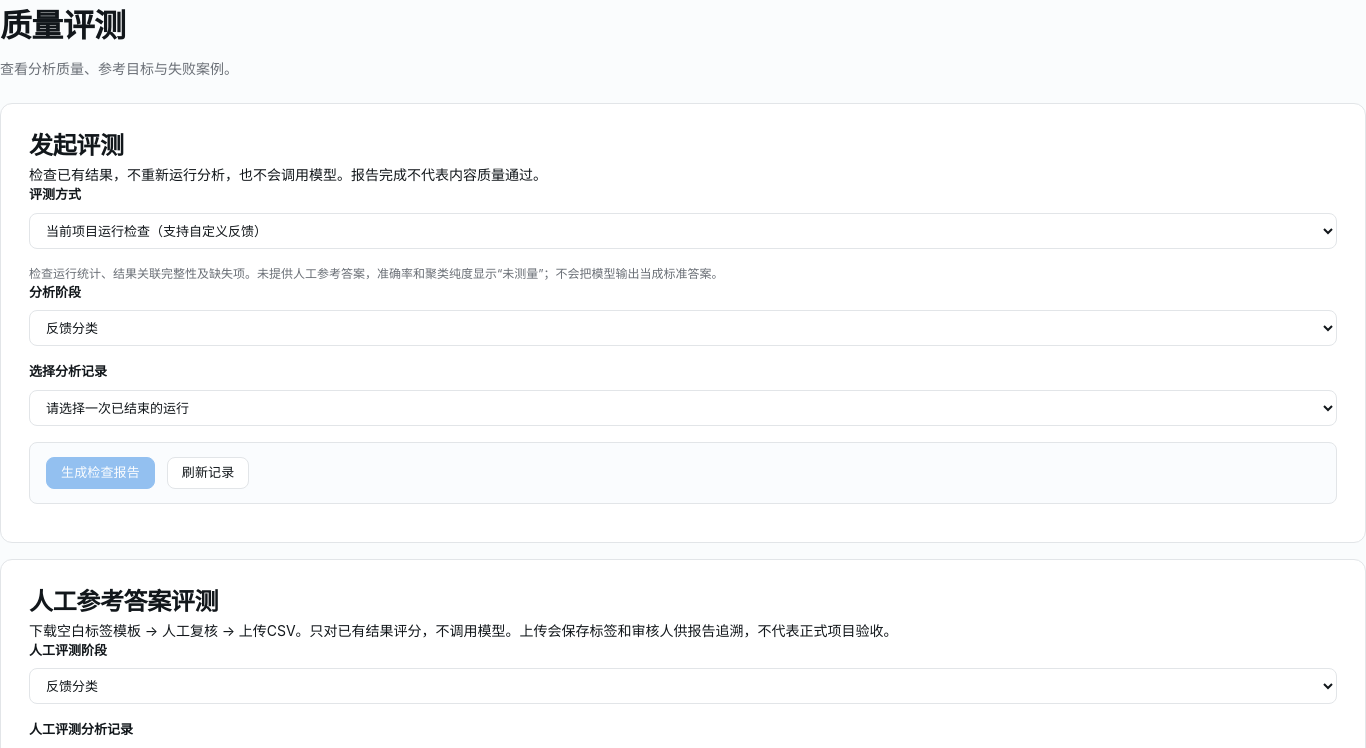
launches a custom-project check and opens its saved report
The image size is (1366, 748).
Expected: the heading "发起评测" is shown, [29, 131, 124, 160]
Select "已有记录 · 已完成 · 36 条 · source-a" in the dropdown labelled "选择分析记录" at point(683, 408), box [29, 390, 1337, 426]
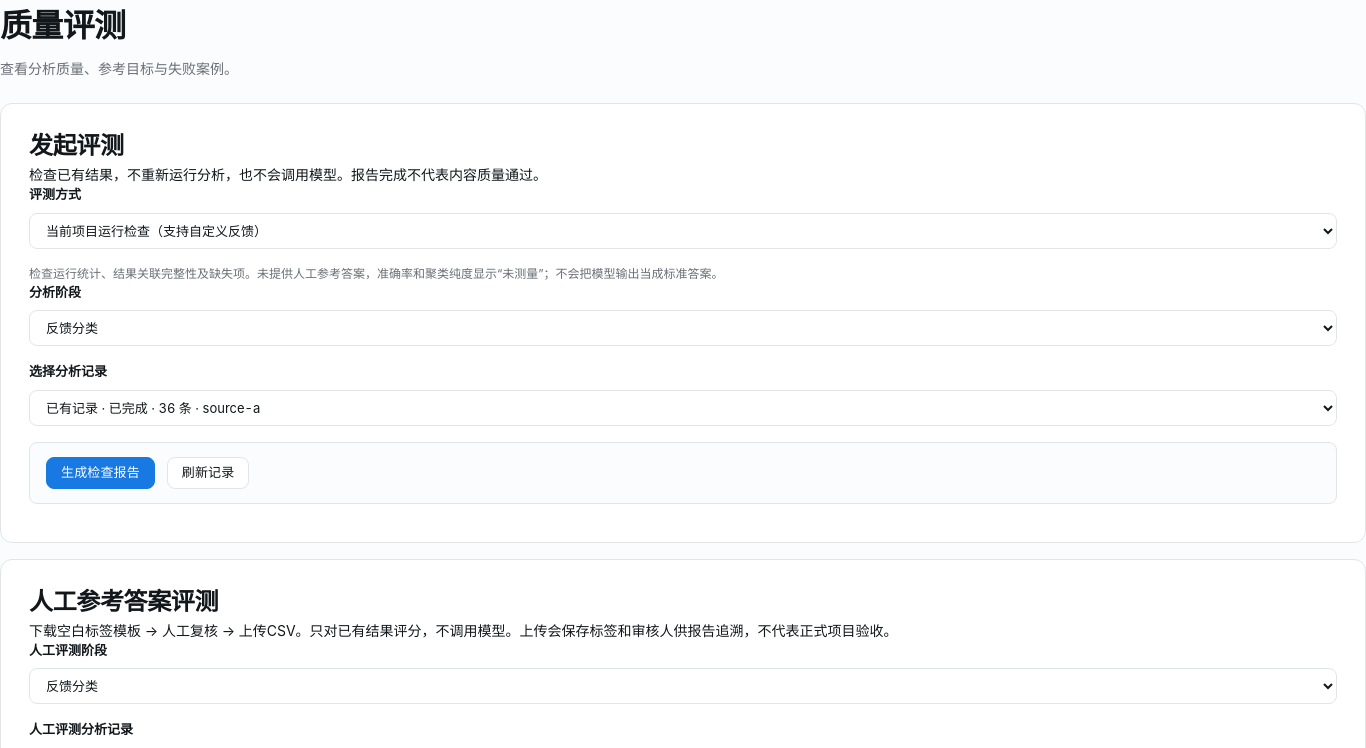
Click the button "生成检查报告" at point(100, 473), box [46, 457, 155, 489]
(page scrolled)
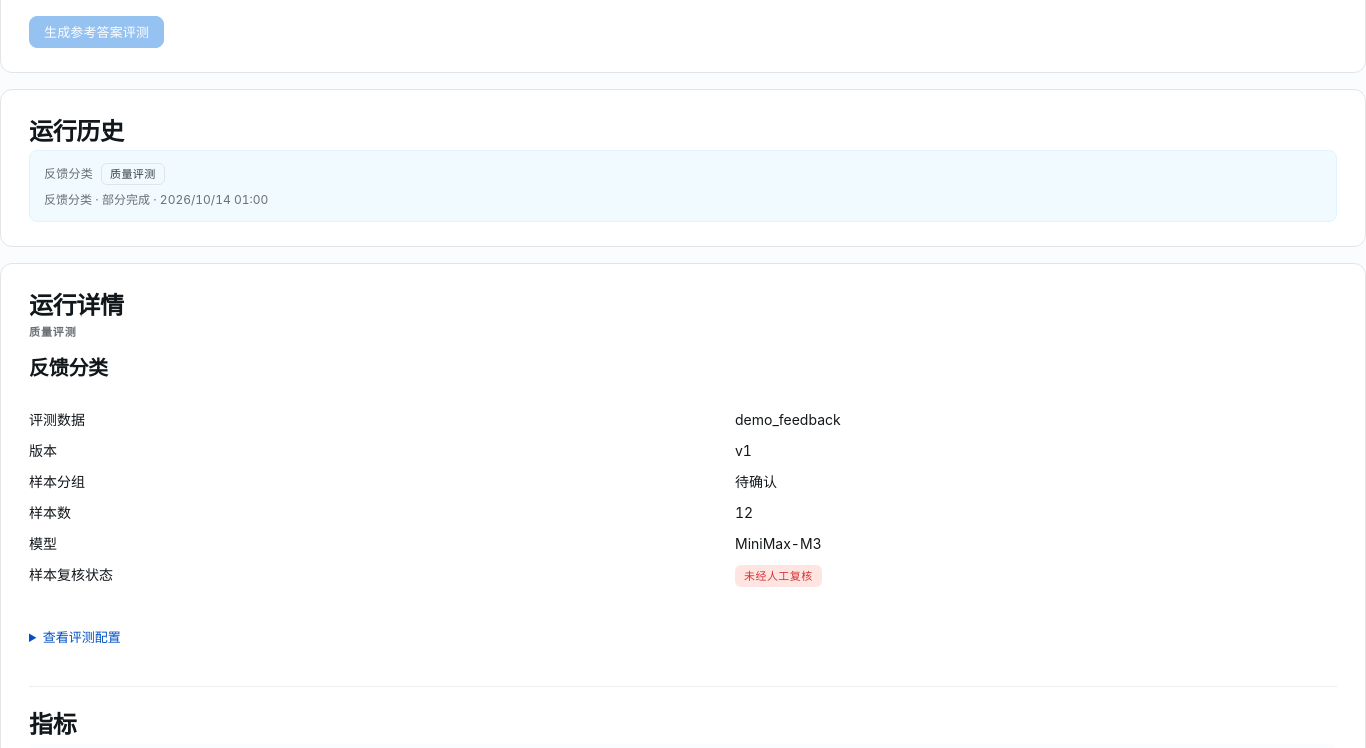
Expected: the heading "反馈分类" is shown, [29, 356, 108, 380]
